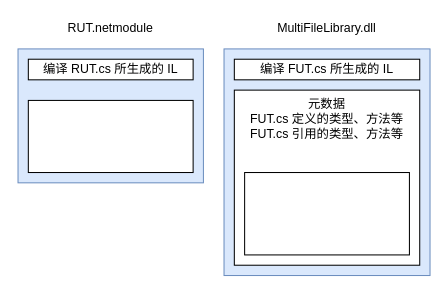
This 448x294 diagram has some shape labels left out. The centre of each missing label's shape, as x and y in pixels:
元数据 RUT.cs 定义的类型、方法等 RUT.cs 引用的类型、方法等: the point at 110,136
清单 程序集文件 (本身和RUT.netmodule) 公共程序集类型 (本身和RUT.netmodule): the point at 326,213
